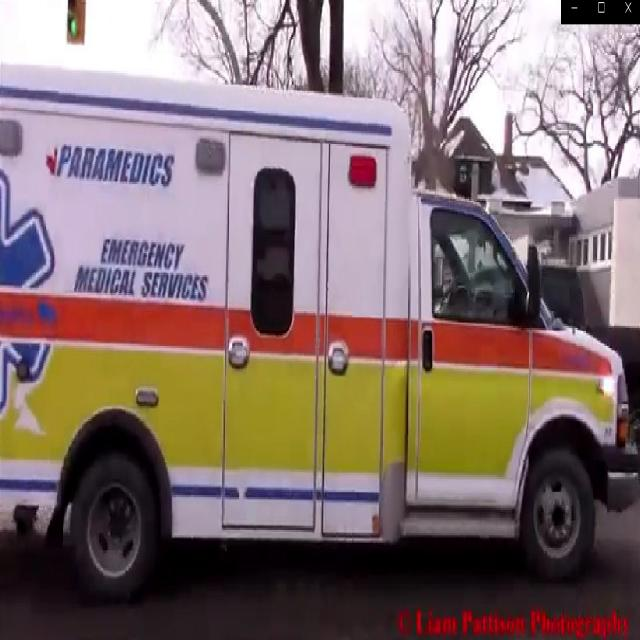emergency: (0, 54, 640, 572)
